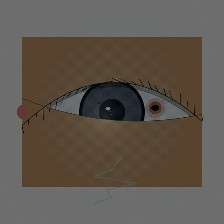foreign_body_visible: (135, 92, 175, 124)
